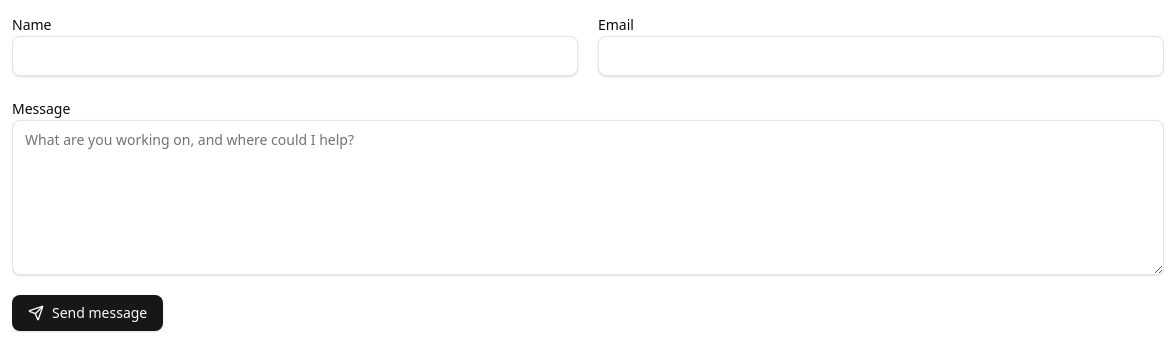
Scenario: <ContactForm> › treats a network failure as 'could not be sent'
Step 1. Type "Dilnoza" into the field labelled "Name" → (295, 56), box top-left (12, 36), bottom-right (578, 76)
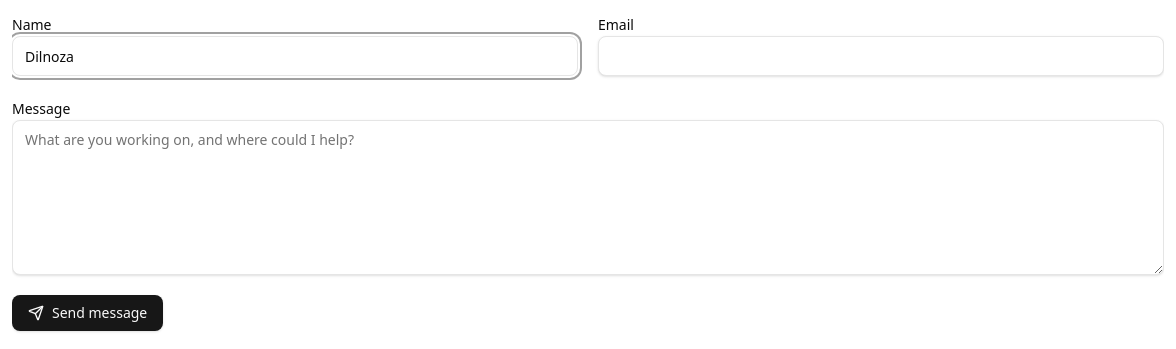
Step 2. Type "dilnoza@example.com" into the field labelled "Email" → (881, 56), box top-left (598, 36), bottom-right (1164, 76)
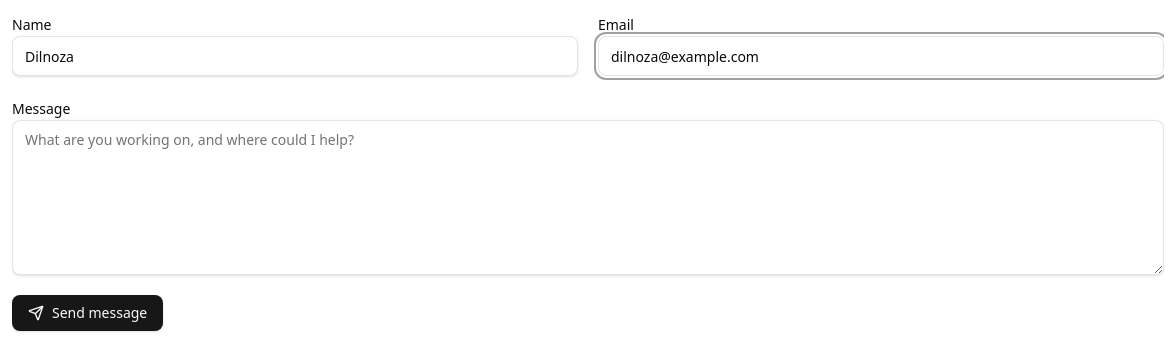
Step 3. Type "A long enough message." into the text box labelled "Message" → (588, 197), box top-left (12, 120), bottom-right (1164, 274)
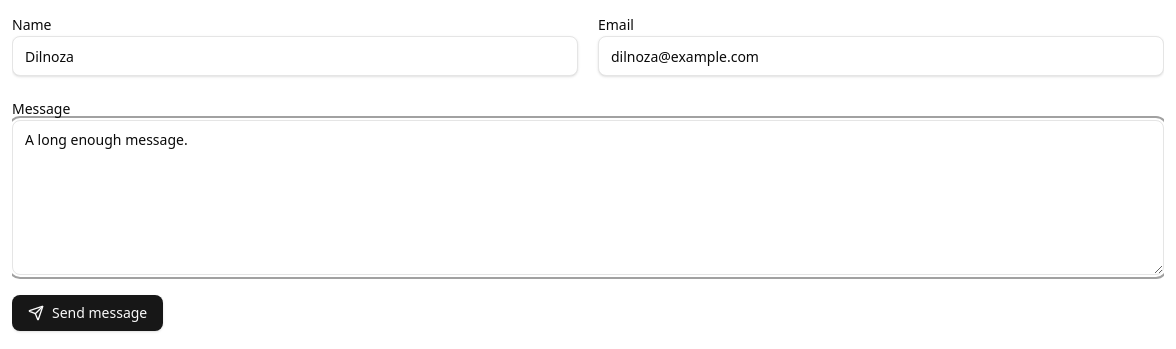
Step 4. Click the button "Send message" → (88, 312), box top-left (12, 294), bottom-right (163, 330)
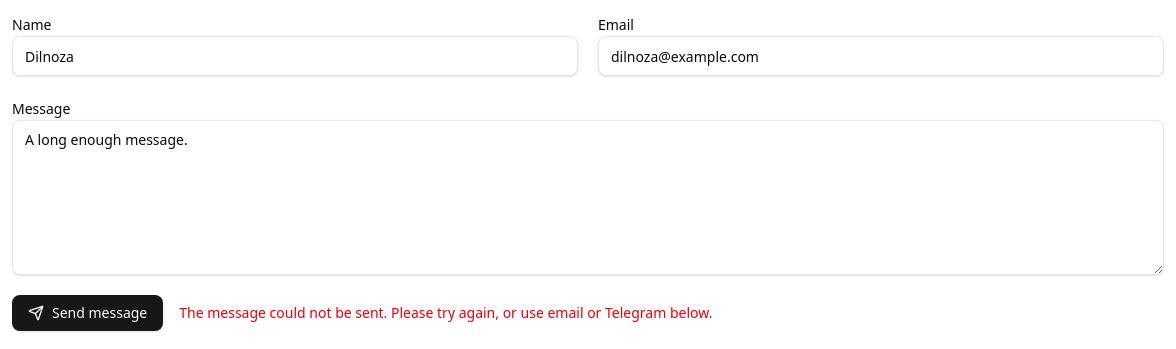
Now the message shows "could not be sent", box top-left (179, 302), bottom-right (712, 322)
